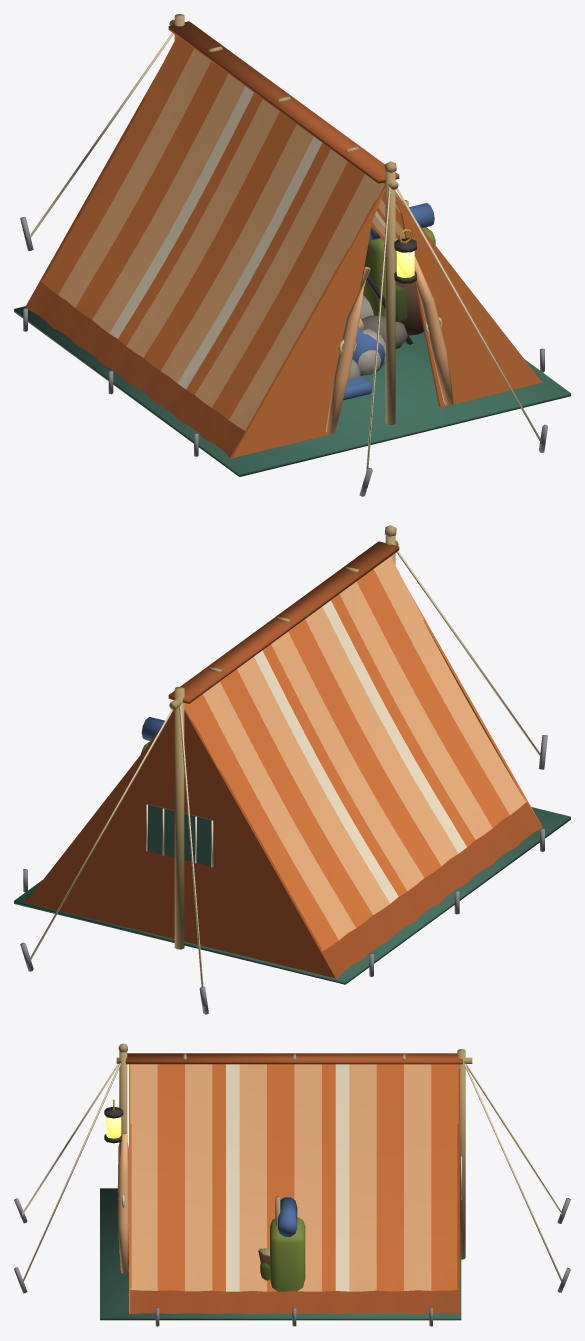
File: camp.glb
3 renders of one model, top to bottom at view 1: azimuth 30°, elevation 25°; view 2: azimuth 150°, elevation 25°; view 3: azimuth 270°, elevation 25°, orthographic. The views are drawn at different scales.
Visible parts, largest first — view 1: camp_tent, camp_cooler, camp_fire, camp_woodpile; view 2: camp_tent; view 3: camp_tent, camp_cooler.
Boxes of the visible parts, x1=… form: camp_tent: x1=14, y1=14, x2=570, y2=496; camp_cooler: x1=362, y1=203, x2=435, y2=322; camp_fire: x1=348, y1=267, x2=413, y2=380; camp_woodpile: x1=358, y1=200, x2=423, y2=337; camp_tent: x1=14, y1=525, x2=570, y2=1014; camp_tent: x1=14, y1=1043, x2=570, y2=1326; camp_cooler: x1=260, y1=1197, x2=305, y2=1291.
Bounding box in the file's own units: 2.37 × 1.77 × 4.07.
